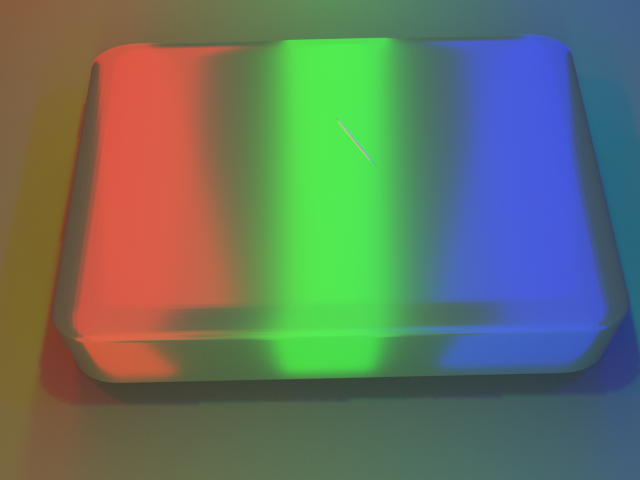scratch: (225, 58, 491, 205)
